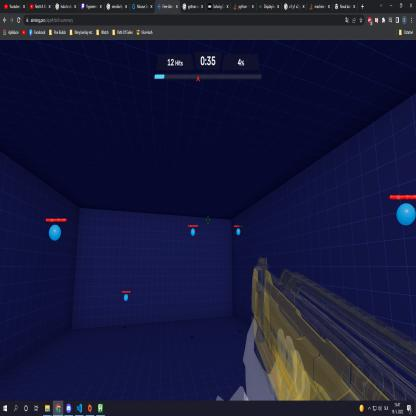sphere: (394, 201, 416, 228), (48, 224, 62, 241), (191, 228, 196, 237), (124, 293, 129, 302), (236, 227, 240, 236)
